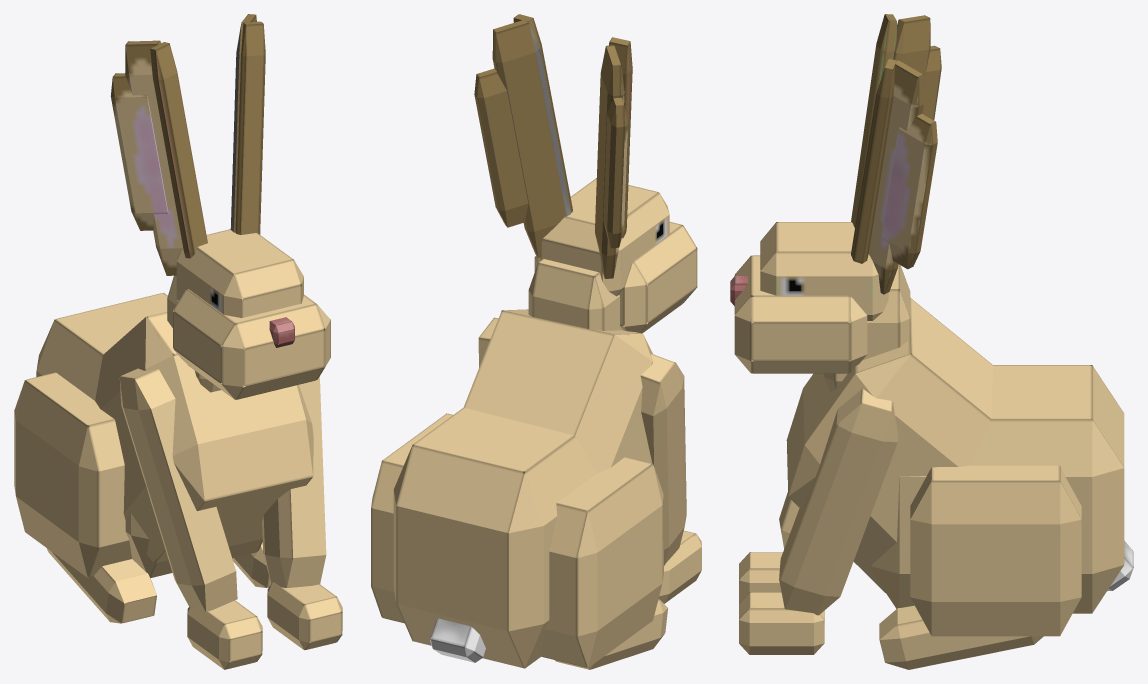
Rendered from LapinRizz1.fbx.
3 renders of one model, left to right at view 1: azimuth 30°, elevation 25°; view 2: azimuth 150°, elevation 25°; view 3: azimuth 270°, elevation 25°, orthographic. The views are drawn at different scales.
Parts seen in each view (by area): view 1: UpperBody, RightThigh, RightLeg, Jaw, Cranium, LowerBody, LeftLeg, beveled_cuboid_5, beveled_cuboid, beveled_cuboid_3, LeftPaw, beveled_cuboid_4 (+6 smaller); view 2: LowerBody, RightThigh, UpperBody, beveled_cuboid_1, Cranium, RightLeg, Jaw, Neck, beveled_cuboid_2, LeftThigh, beveled_cuboid_3, beveled_cuboid_4 (+5 smaller); view 3: LeftThigh, LowerBody, UpperBody, LeftLeg, Jaw, Cranium, beveled_cuboid_2, LeftBackPaw, LeftPaw, beveled_cuboid_1, beveled_cuboid, Neck (+4 smaller).
Boxes of the visible parts, bbox=[...] form: UpperBody: bbox=[87, 312, 313, 563]; RightThigh: bbox=[14, 372, 131, 577]; RightLeg: bbox=[119, 368, 237, 612]; Jaw: bbox=[173, 289, 330, 399]; Cranium: bbox=[176, 229, 303, 347]; LowerBody: bbox=[36, 293, 262, 578]; LeftLeg: bbox=[262, 376, 326, 587]; beveled_cuboid_5: bbox=[150, 42, 207, 258]; beveled_cuboid: bbox=[235, 21, 265, 234]; beveled_cuboid_3: bbox=[110, 73, 168, 230]; LeftPaw: bbox=[267, 582, 342, 650]; beveled_cuboid_4: bbox=[125, 40, 182, 275]; LowerBody: bbox=[393, 407, 596, 668]; RightThigh: bbox=[541, 457, 663, 667]; UpperBody: bbox=[463, 309, 660, 474]; beveled_cuboid_1: bbox=[492, 19, 570, 257]; Cranium: bbox=[538, 178, 669, 296]; RightLeg: bbox=[640, 353, 686, 565]; Jaw: bbox=[534, 222, 697, 333]; Neck: bbox=[528, 259, 624, 336]; beveled_cuboid_2: bbox=[474, 68, 528, 227]; LeftThigh: bbox=[371, 413, 452, 623]; beveled_cuboid_3: bbox=[603, 97, 627, 248]; beveled_cuboid_4: bbox=[595, 45, 624, 278]; LeftThigh: bbox=[910, 465, 1081, 636]; LowerBody: bbox=[870, 365, 1124, 613]; UpperBody: bbox=[786, 298, 992, 592]; LeftLeg: bbox=[779, 388, 898, 615]; Jaw: bbox=[734, 255, 867, 373]; Cranium: bbox=[760, 222, 888, 320]; beveled_cuboid_2: bbox=[881, 114, 937, 269]; LeftBackPaw: bbox=[879, 605, 1043, 669]; LeftPaw: bbox=[739, 592, 824, 654]; beveled_cuboid_1: bbox=[868, 59, 923, 294]; beveled_cuboid: bbox=[851, 58, 896, 263]; Neck: bbox=[824, 264, 910, 392].
Size of the model in its own units: 37.5 by 94.26 by 58.85.
1 material, 1 textured.
